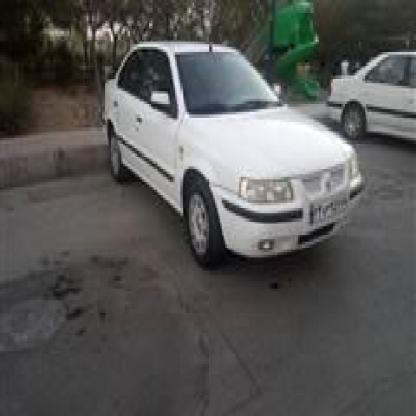Car: (106, 34, 348, 288), (322, 49, 416, 151)
